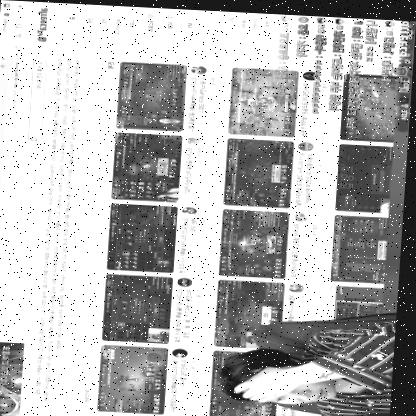streamer: (217, 310, 400, 416)
